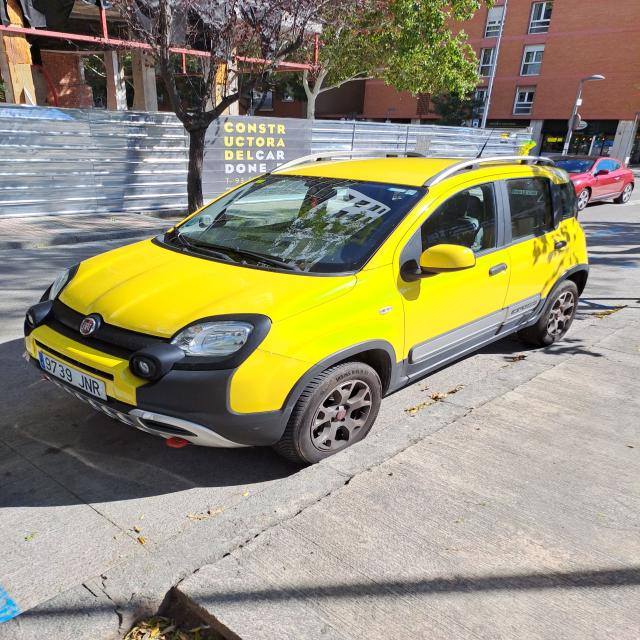license_plate-34Td: (38, 351, 107, 400)
